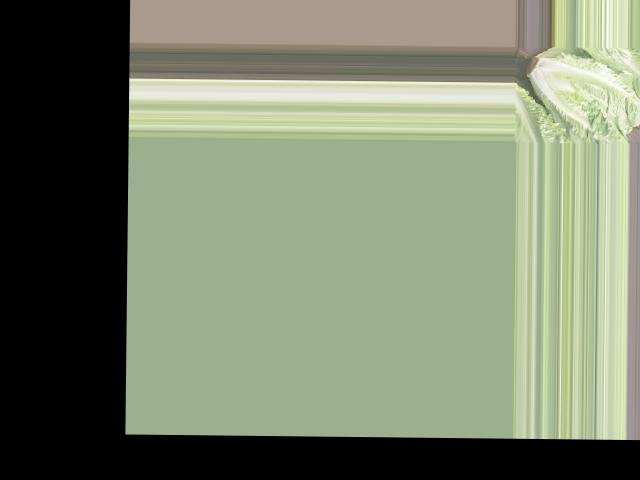lettuce: (520, 45, 640, 137)
